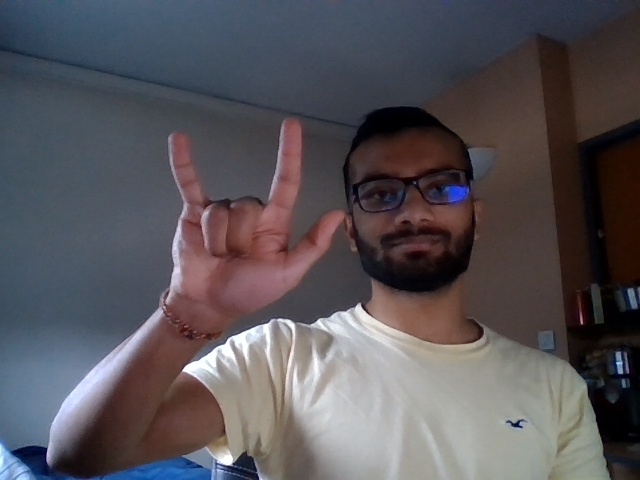I Love You: (123, 100, 350, 332)
